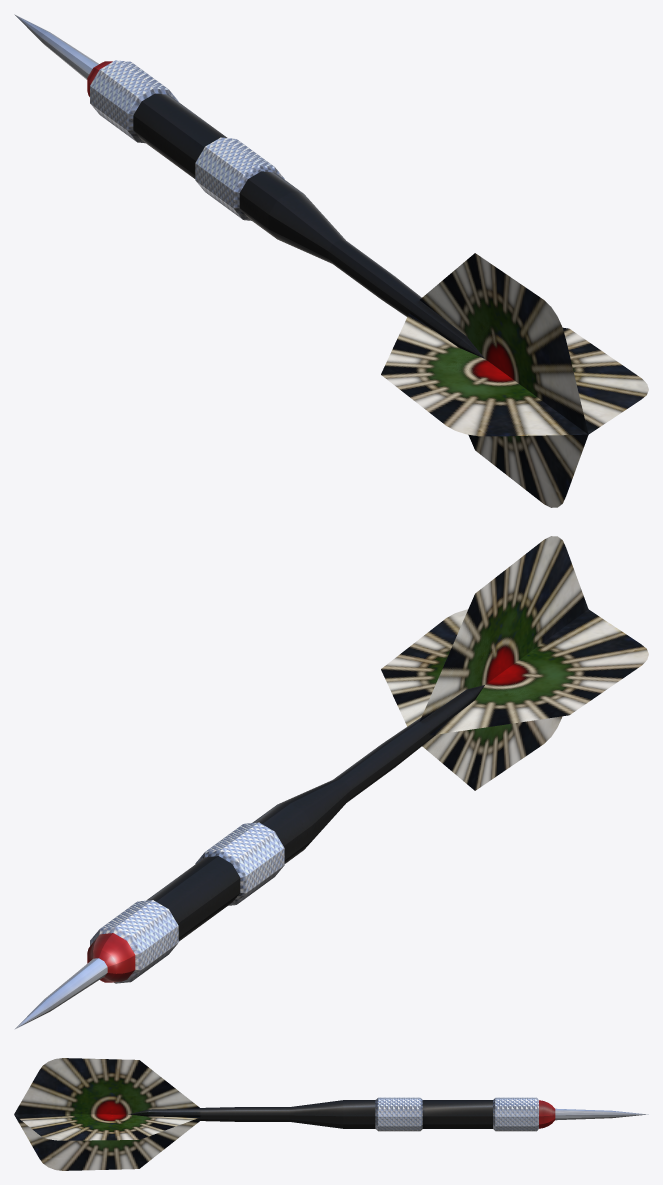
File: Dart1.fbx
3 renders of one model, top to bottom at view 1: azimuth 30°, elevation 25°; view 2: azimuth 150°, elevation 25°; view 3: azimuth 270°, elevation 25°, orthographic. The views are drawn at different scales.
Parts seen in each view (by area): view 1: Dart1FinalAsset; view 2: Dart1FinalAsset; view 3: Dart1FinalAsset.
Part boxes in pixels (x1,y1,x2,y2): Dart1FinalAsset: (14, 14, 648, 507); Dart1FinalAsset: (14, 536, 648, 1029); Dart1FinalAsset: (14, 1058, 648, 1170).
Size of the model in its own units: 2.63 by 2.63 by 13.4.
